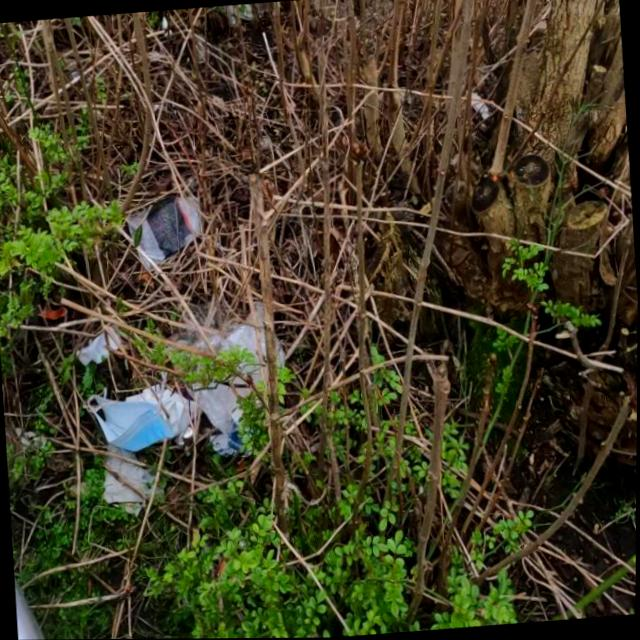Cup: (123, 184, 223, 278)
Mask: (83, 373, 191, 457)
